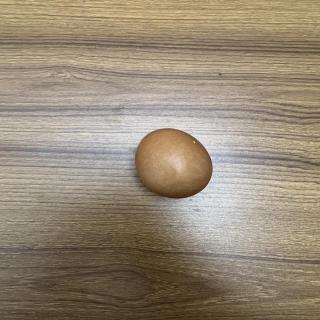Telur: (130, 127, 218, 201)
